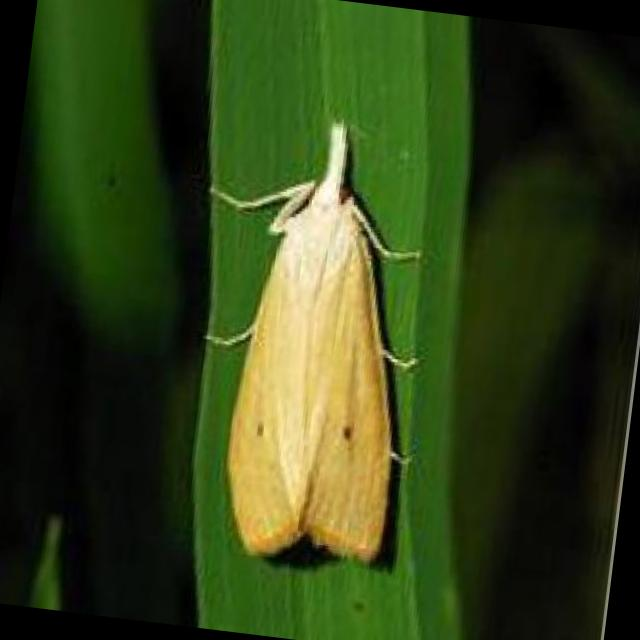stem-borer: (163, 103, 454, 575)
